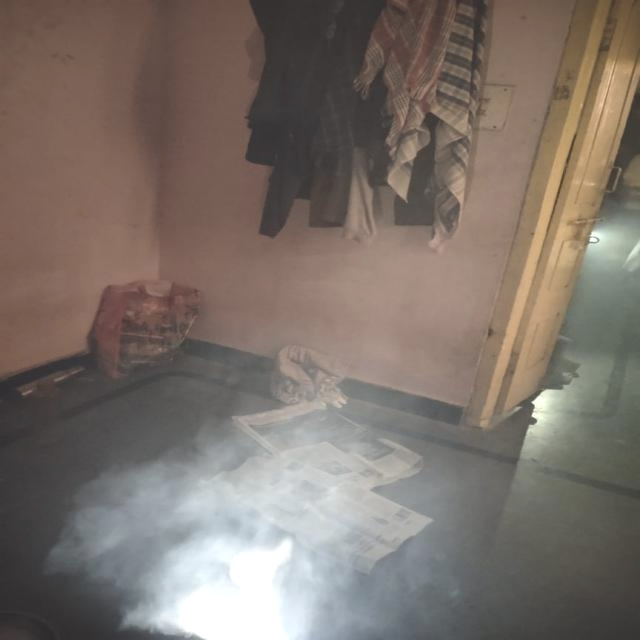smoke: (110, 454, 333, 640)
